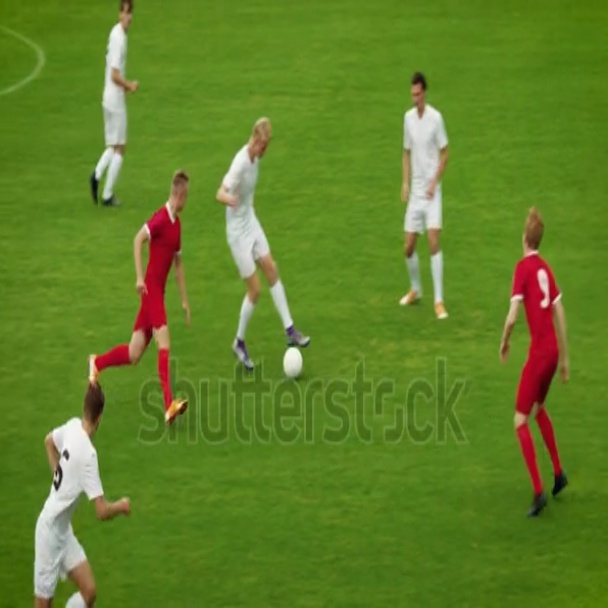ball: (278, 342, 307, 387)
